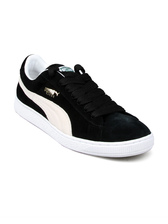shoes: (16, 49, 158, 164)
